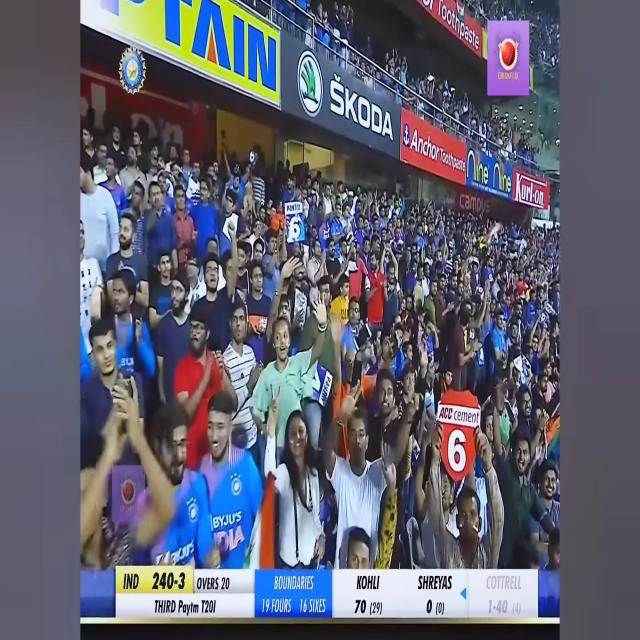fully_visible: (284, 204, 304, 213)
